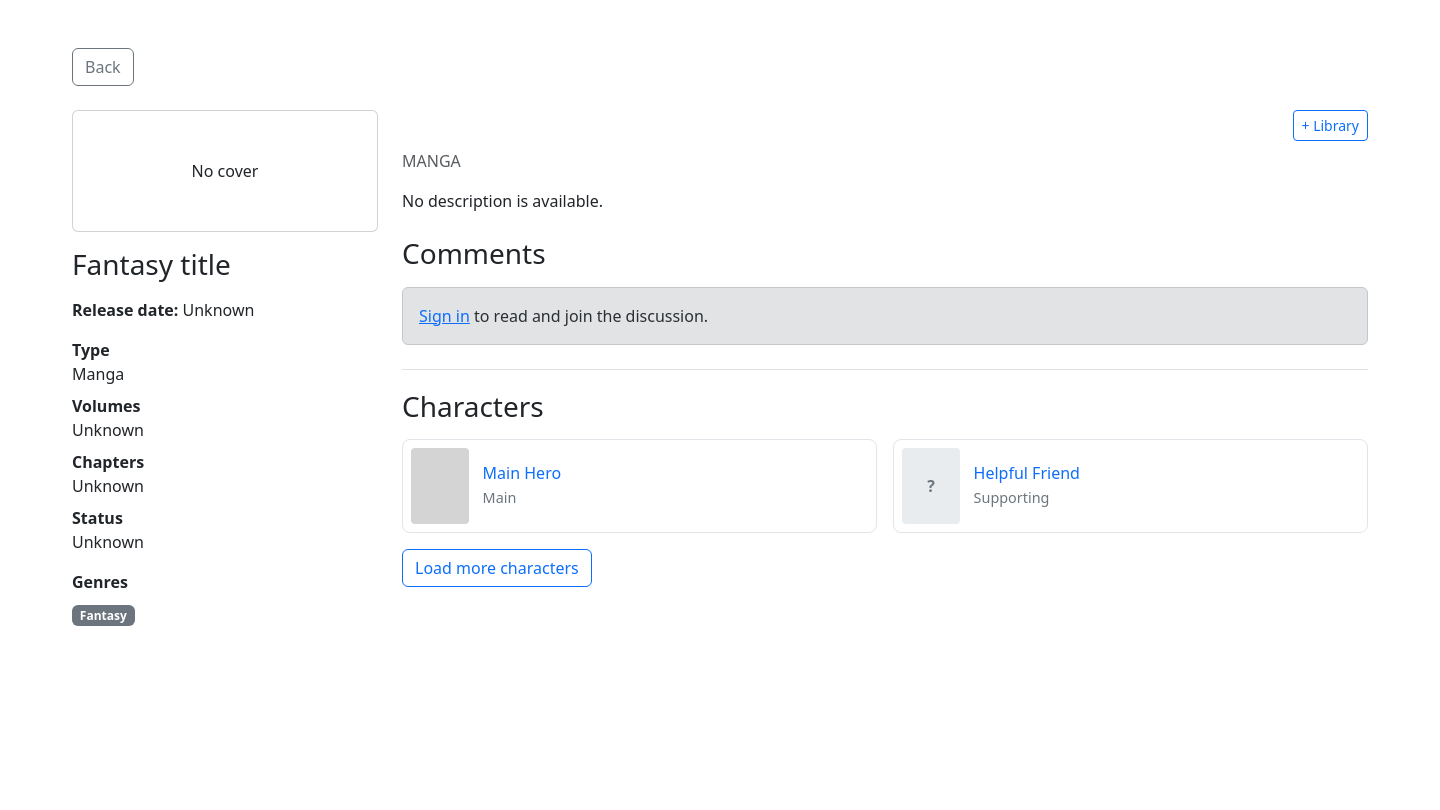
Test: AniListMangaDetailsPage › loads another ten characters only when the reader requests them
The image size is (1440, 810).
Click the button "Load more characters" at (497, 568), box x1=402 y1=549 x2=592 y2=587
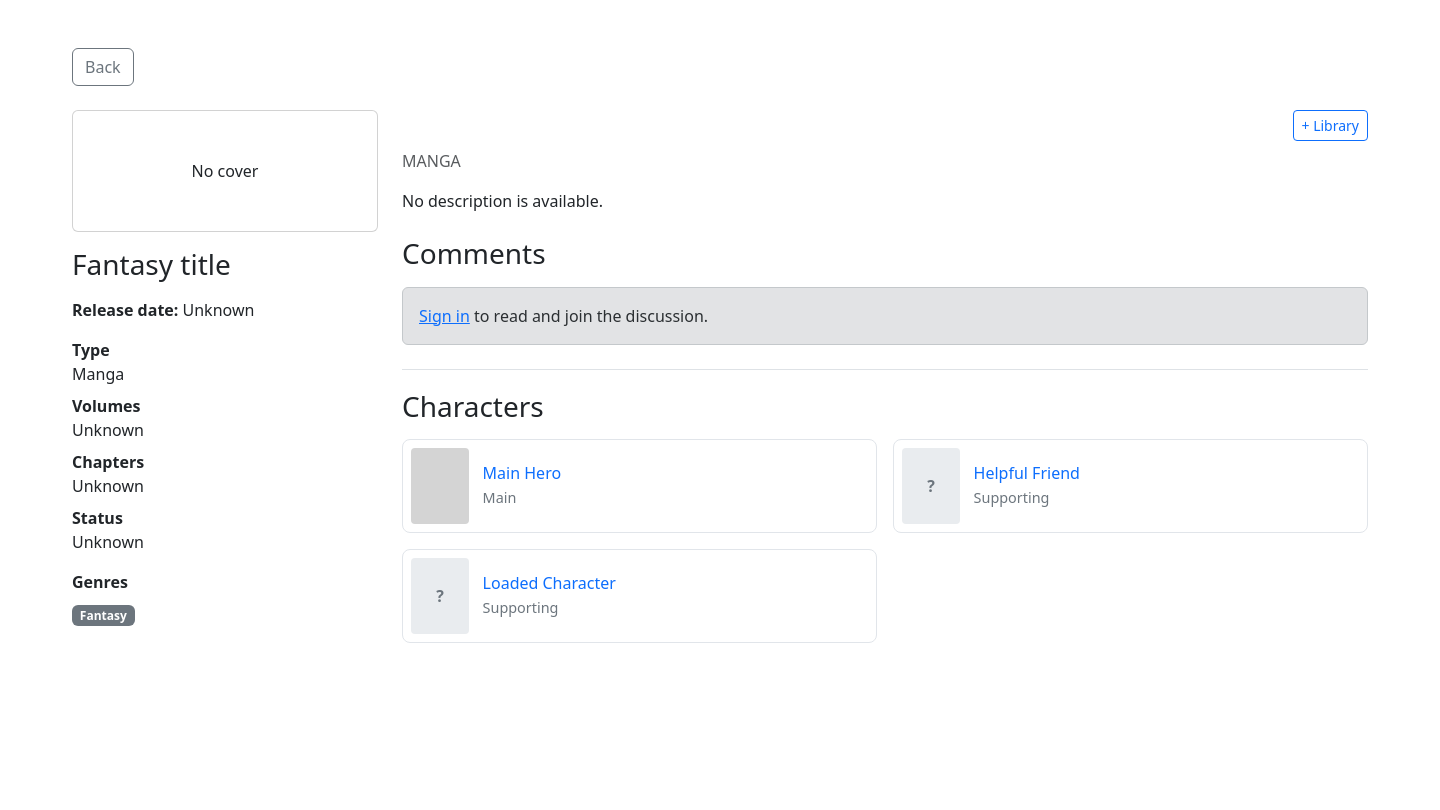
Result: the heading "Loaded Character" is shown at x1=483 y1=574 x2=616 y2=593
Result: the button "Load more characters" is gone
